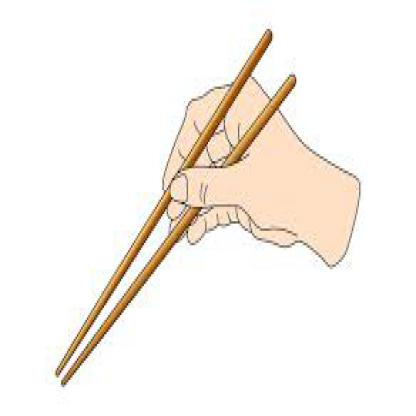chopstick: (54, 26, 272, 373), (61, 74, 295, 384)
